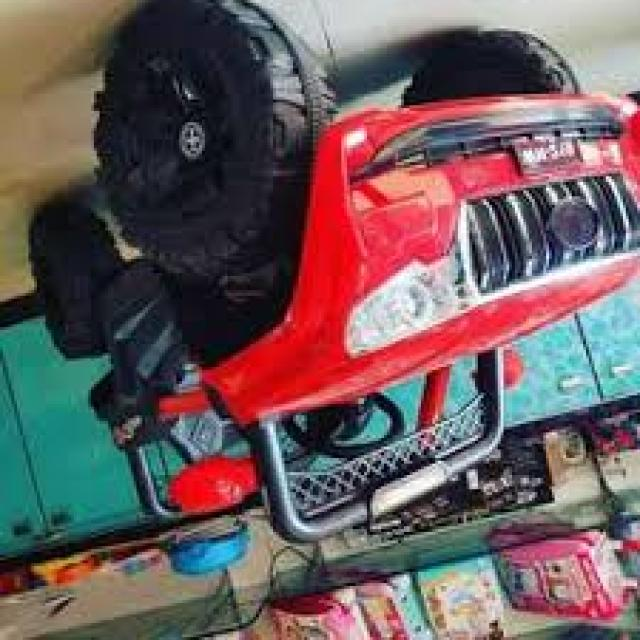Car: (26, 3, 637, 549)
